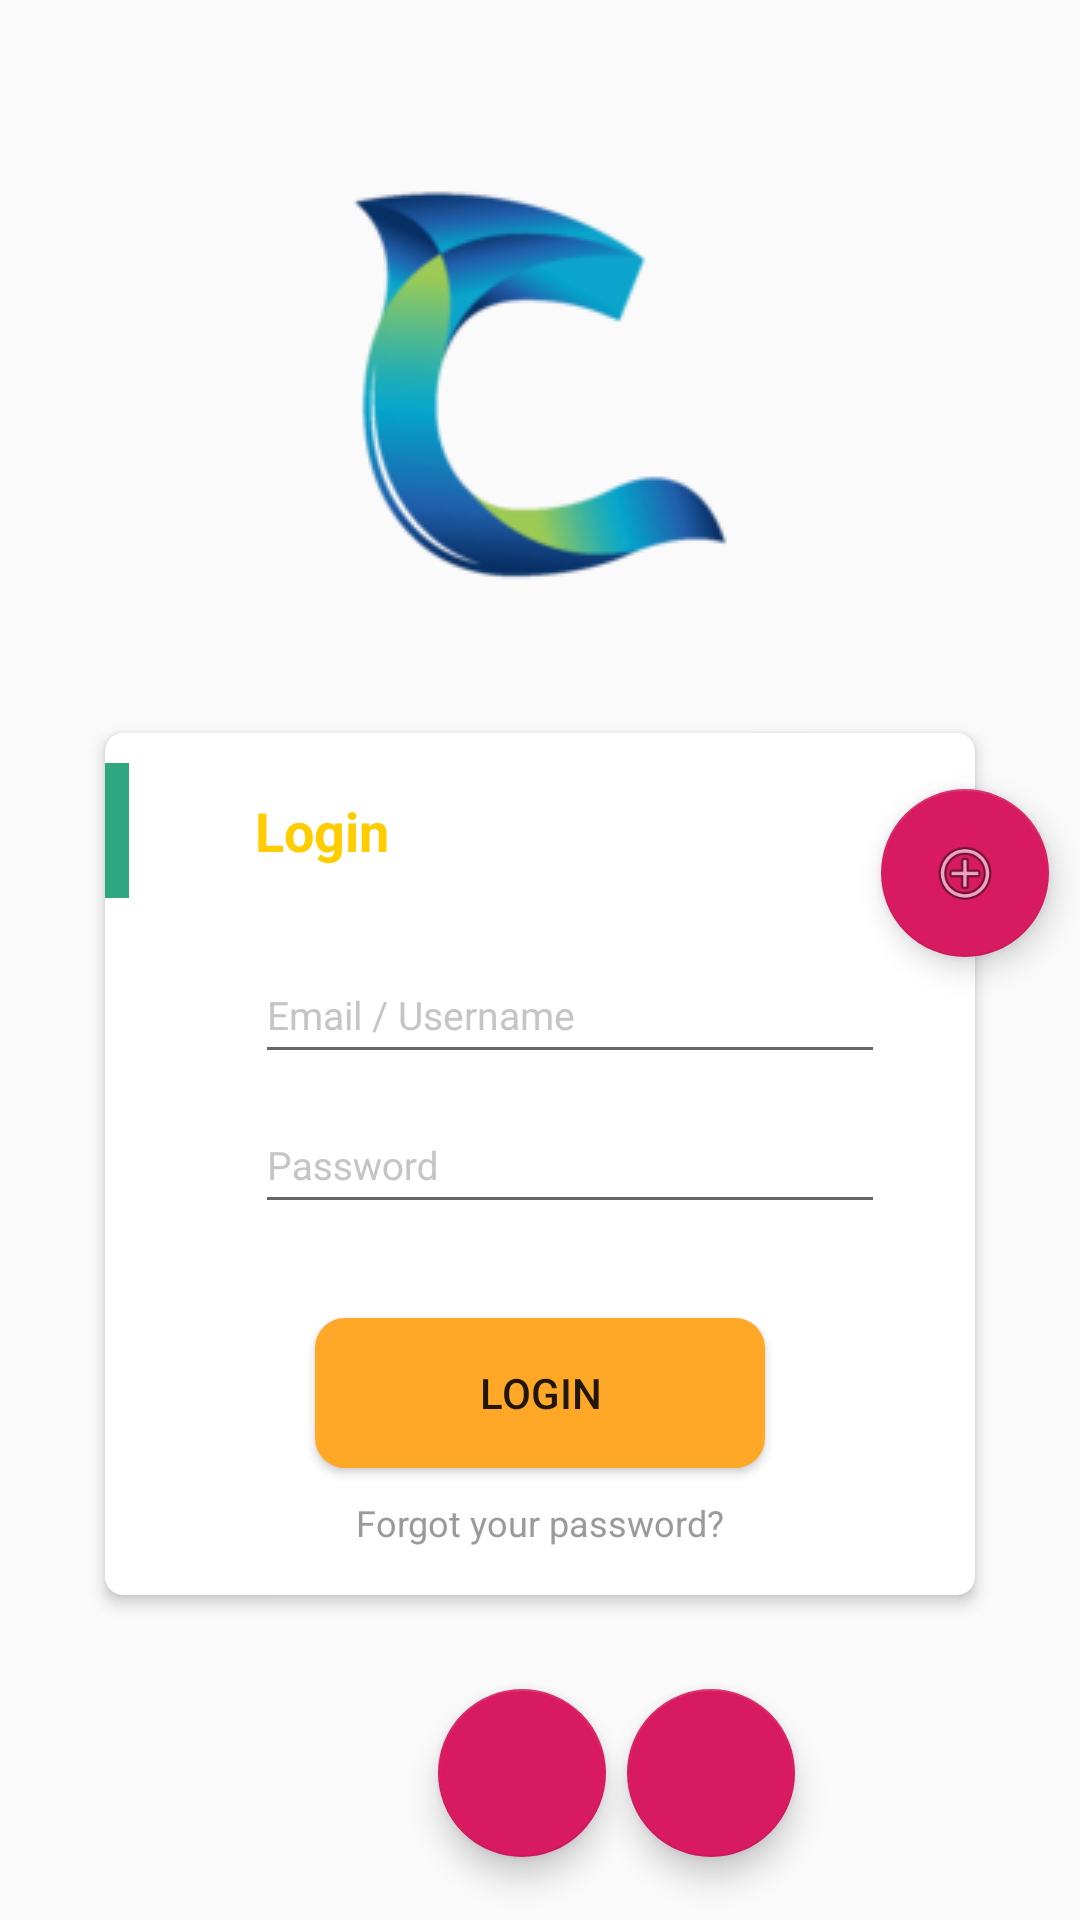

Icons on this 1080px×1920px Android screen, each with the point to tap as (x=x, y=y):
add: (x=965, y=873)
